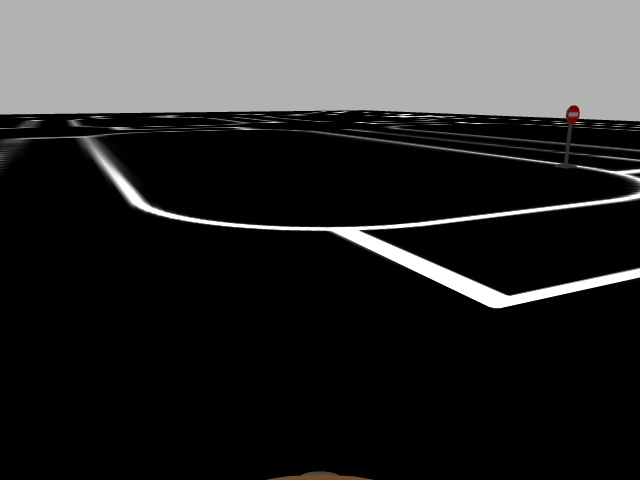prohibited: (565, 102, 581, 126)
